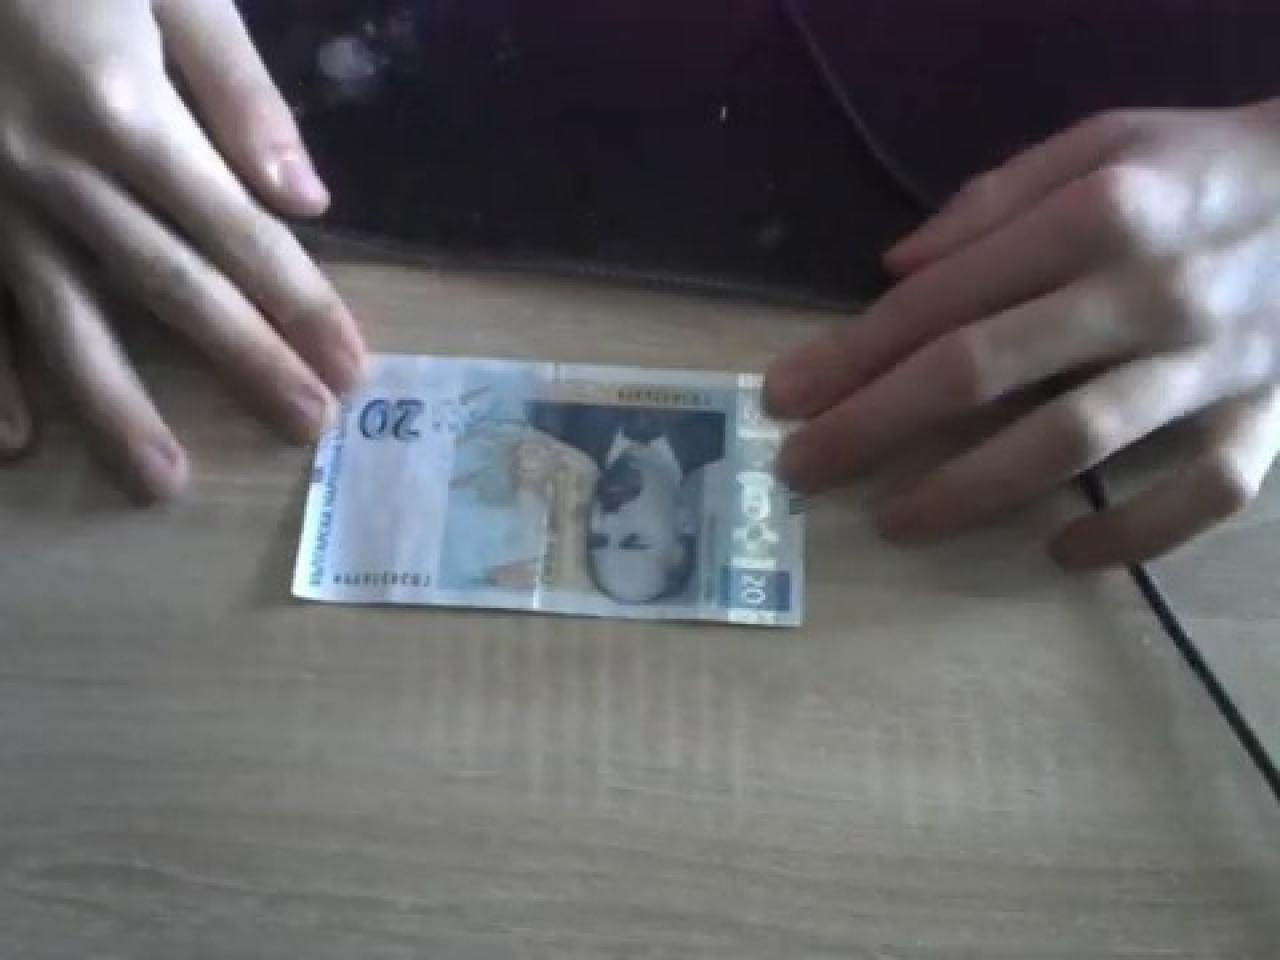20leva: (288, 355, 808, 632)
